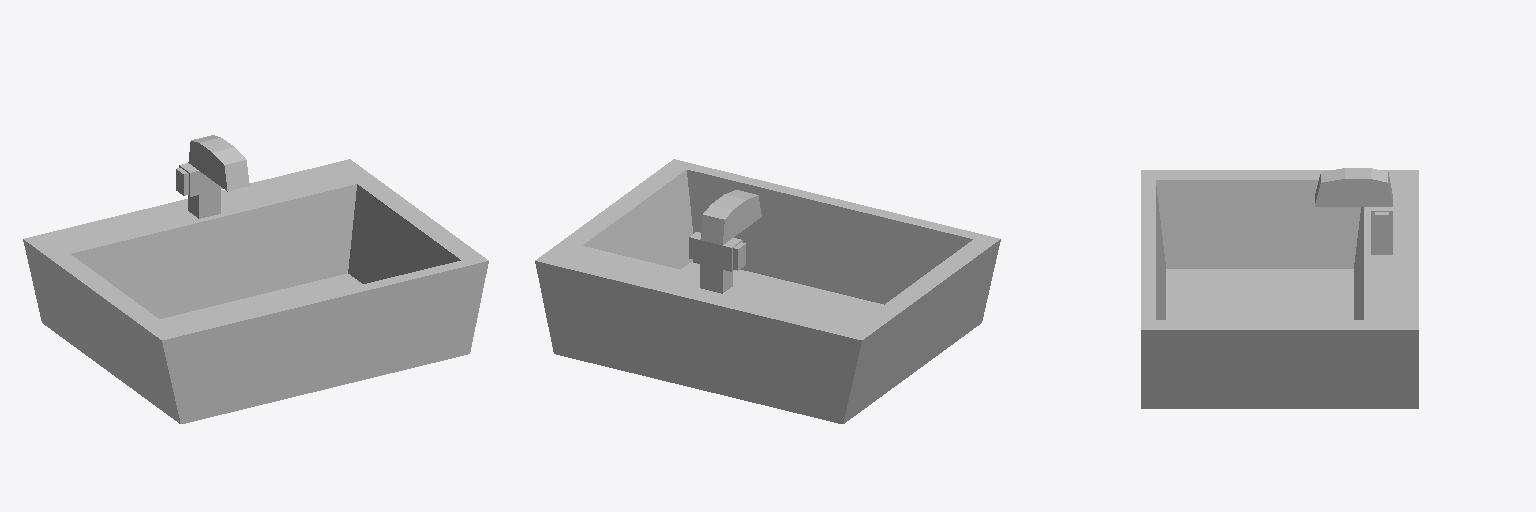
The model's file is Basin.obj.
3 views of the same model, side by side, from view 1: azimuth 30°, elevation 25°; view 2: azimuth 150°, elevation 25°; view 3: azimuth 270°, elevation 25° (orthographic).
Visible parts, largest first — view 1: basin; view 2: basin; view 3: basin.
Boxes of the visible parts, x1=… form: basin: x1=23, y1=135, x2=488, y2=423; basin: x1=535, y1=159, x2=1000, y2=423; basin: x1=1141, y1=168, x2=1418, y2=408.
Size of the model in its own units: 3.86 by 1.86 by 2.84.